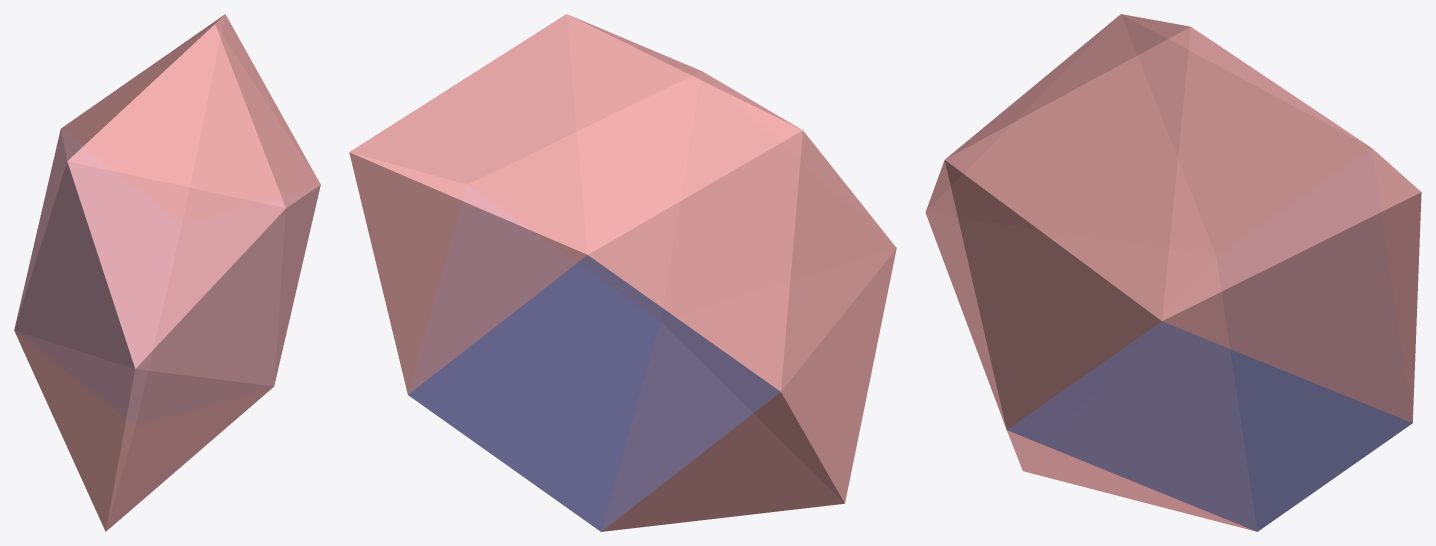
The model's file is j88_sphenomegacorona.obj.
3 renders of one model, left to right at view 1: azimuth 30°, elevation 25°; view 2: azimuth 150°, elevation 25°; view 3: azimuth 270°, elevation 25°, orthographic. The views are drawn at different scales.
Bounding box in the file's own units: 1.49 × 2.07 × 1.68.
